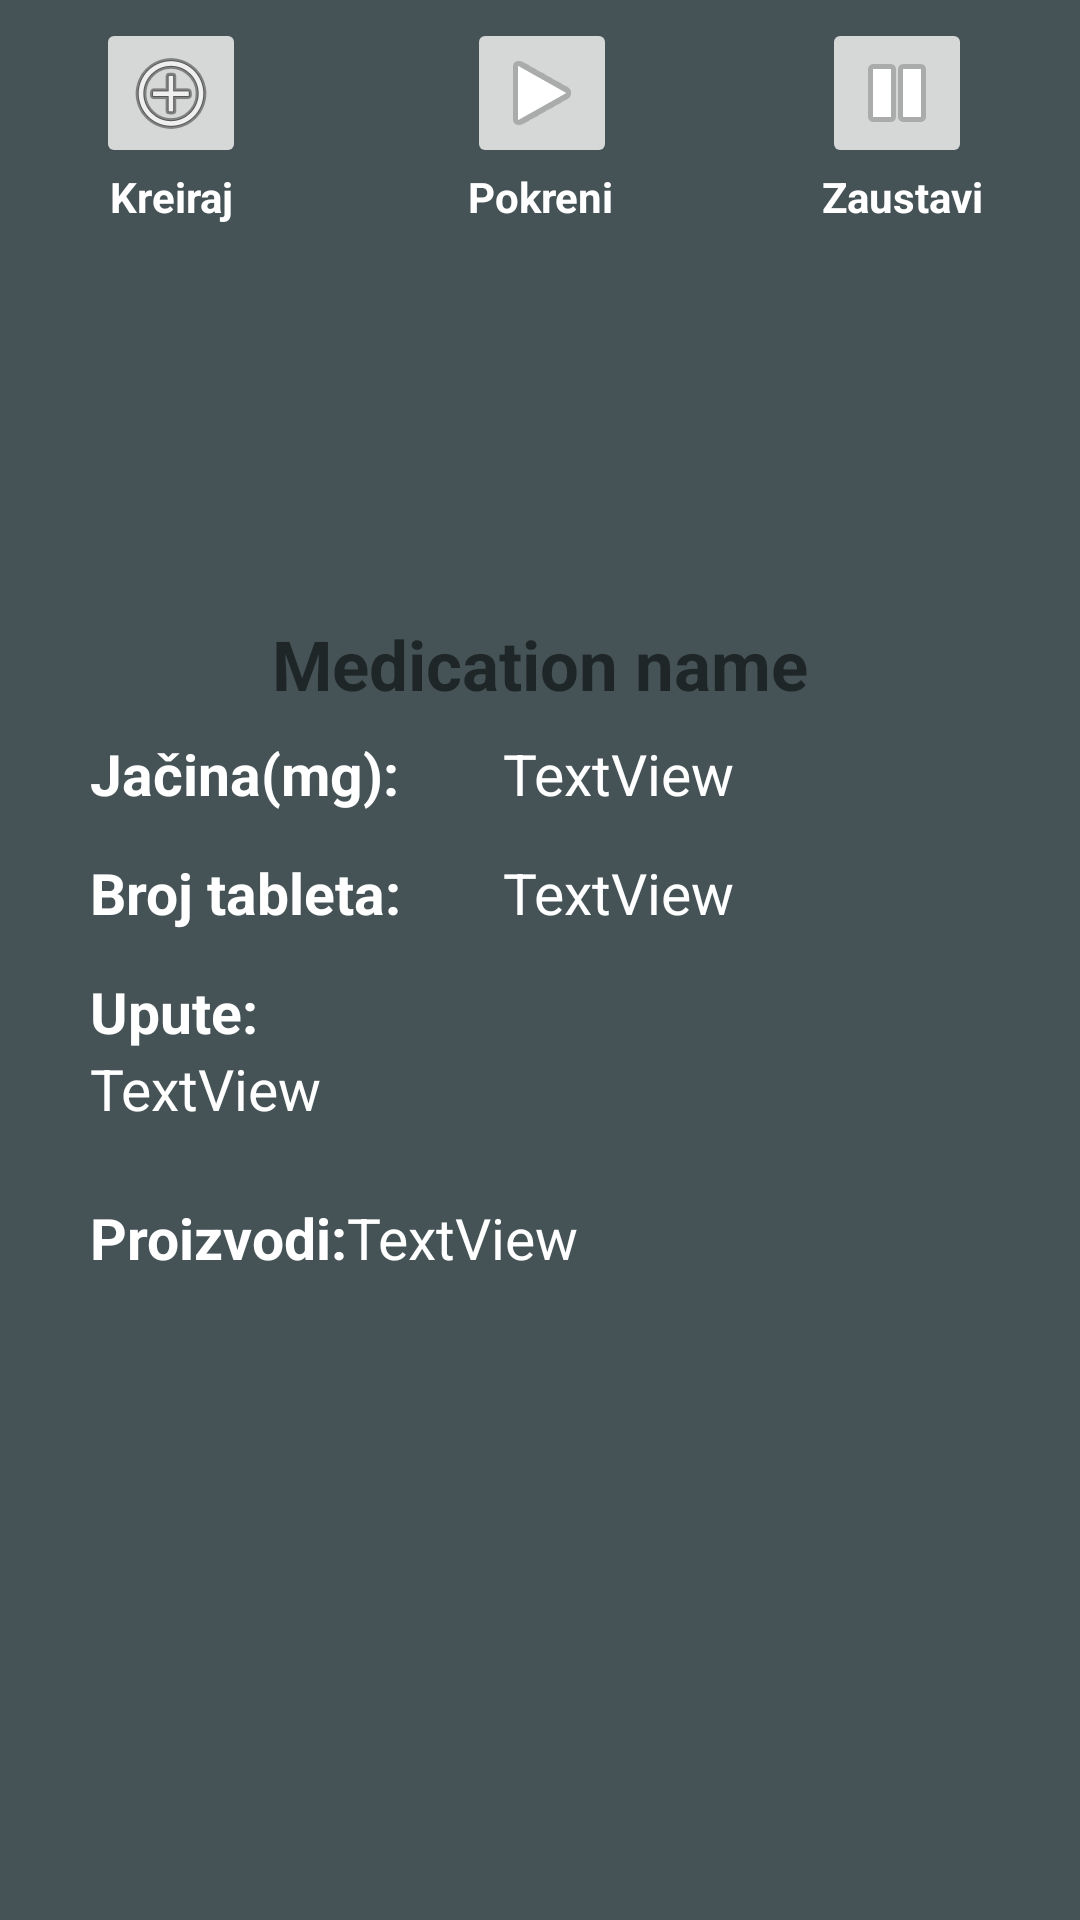

Icons on this 1080px×1920px Android screen, each with the point to tap as [x,y]:
add: [171,93]
pause: [897,93]
